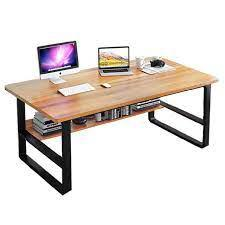desk: (0, 32, 223, 192)
